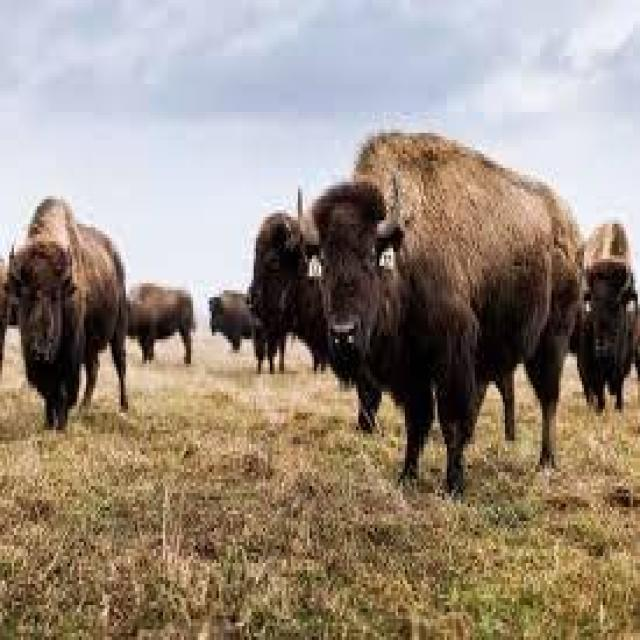Bison: (294, 32, 583, 493), (13, 170, 138, 446), (238, 176, 314, 372), (563, 222, 640, 415), (119, 266, 202, 381), (196, 234, 258, 374)
